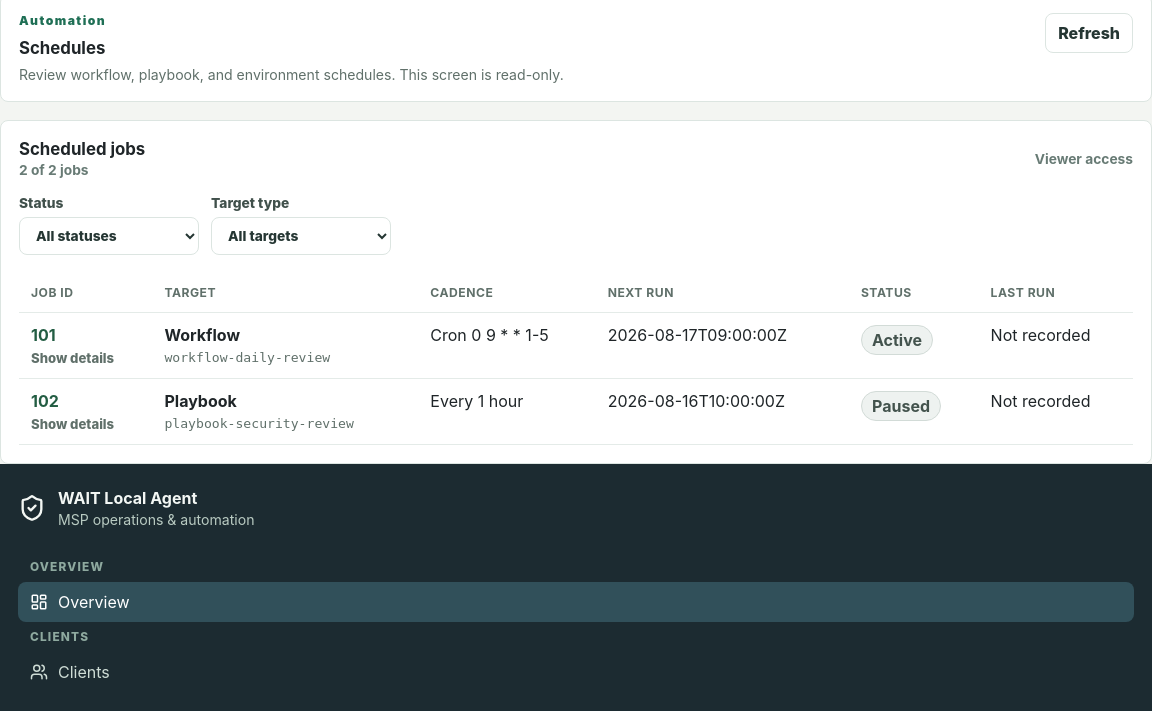
Test case: Schedules screen › loads workflow and playbook rows, filters by status, shows next runs, and expands the full view
Expected: the heading "Scheduled jobs" is shown, [19,139,145,159]
Expected: the text "Workflow" is shown, [164,325,240,345]
Select "Paused" in the dropdown labelled "Status" at {"x": 109, "y": 236}, box [19,217,199,255]
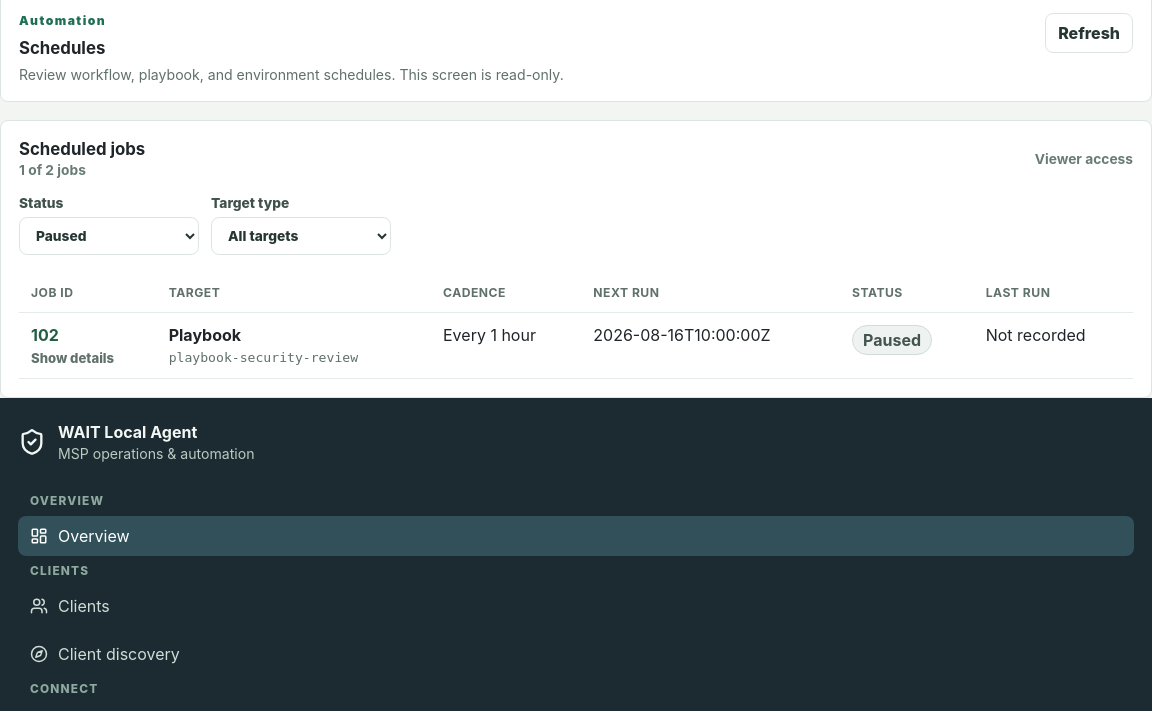
Expected: the text "playbook-security-review" is shown, [169,350,358,365]
Expected: the text "workflow-daily-review" is gone
Click the button with aria-label "Show details for scheduled job 102" at {"x": 73, "y": 346}, box [31,325,114,366]
(page scrolled)
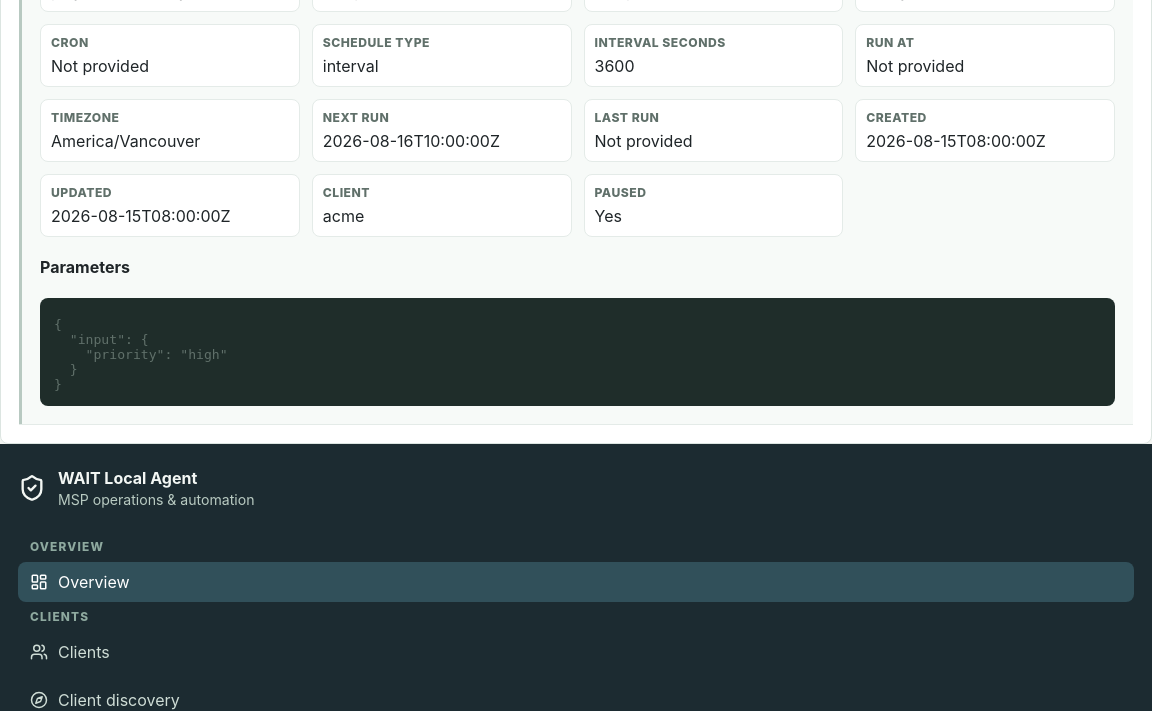
Expected: the text "America/Vancouver" is shown, [51,131,200,151]
Expected: the text "{ \"input\": { \"priority\": \"high\" } }" is shown, [54,317,228,392]
